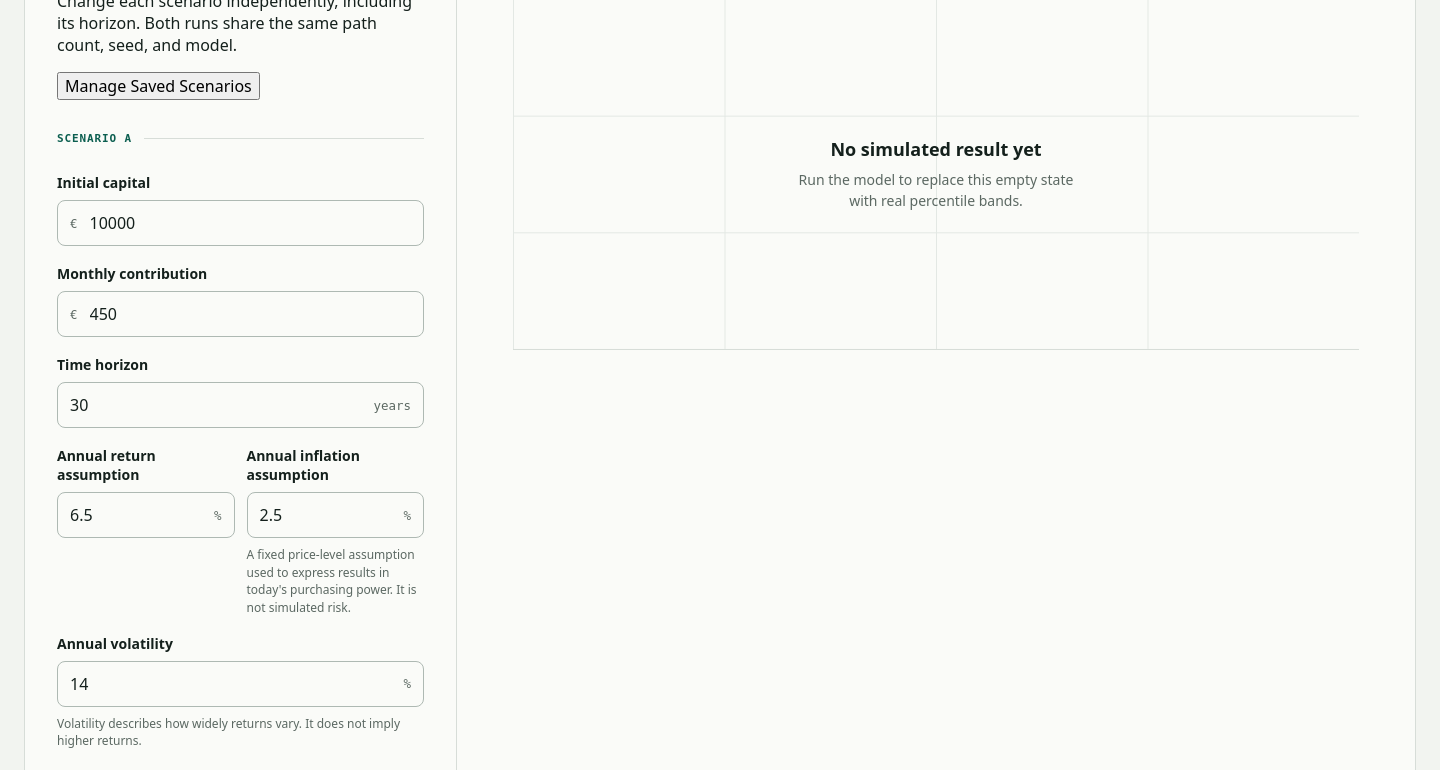
Scenario: MarketSim simulation workspace › builds independent horizons and executes A then B with shared controls
(page scrolled)
Replace the text in the number field labelled "Time horizon" with "1" at (210, 405), box x1=58 y1=383 x2=362 y2=427
(page scrolled)
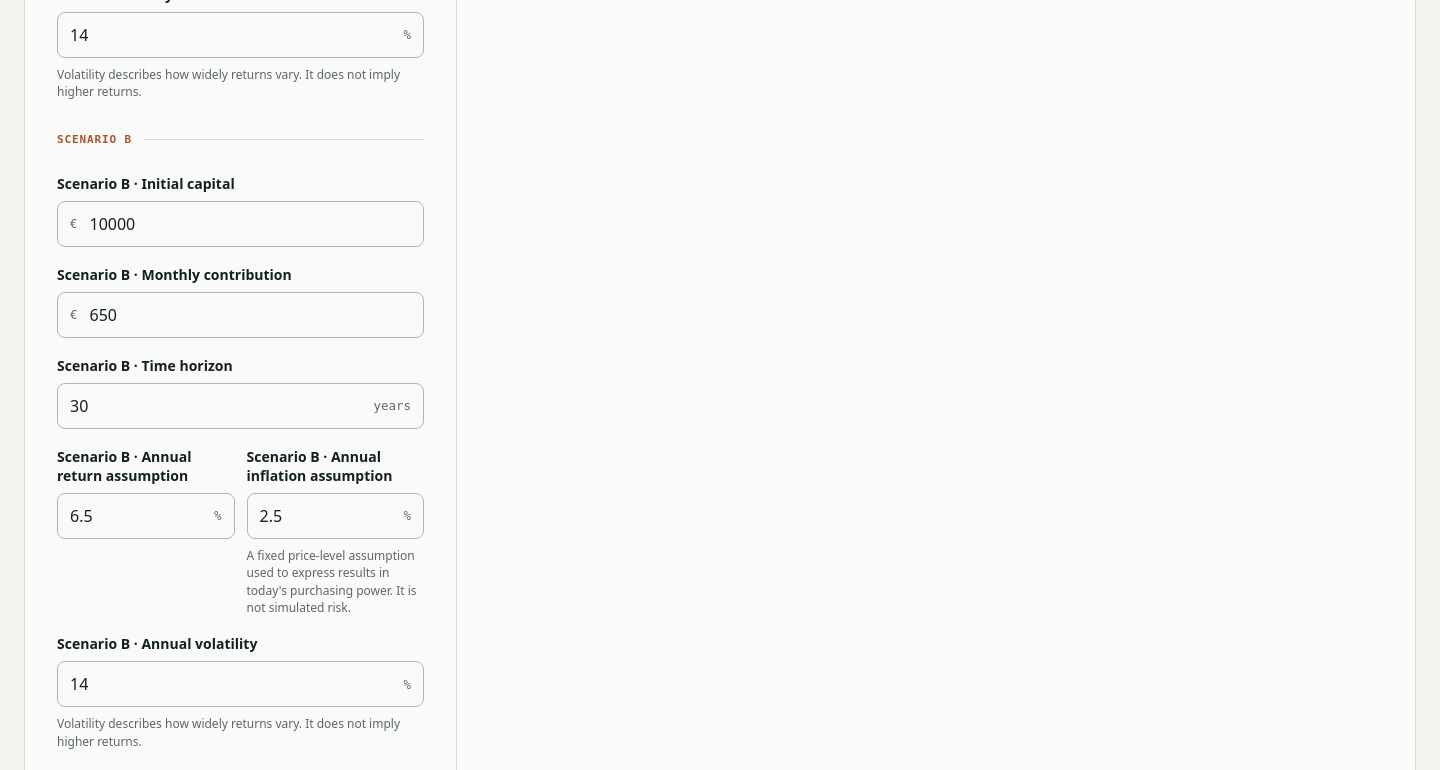
Replace the text in the number field labelled "Scenario B · Time horizon" with "2" at (210, 406), box x1=58 y1=384 x2=362 y2=428
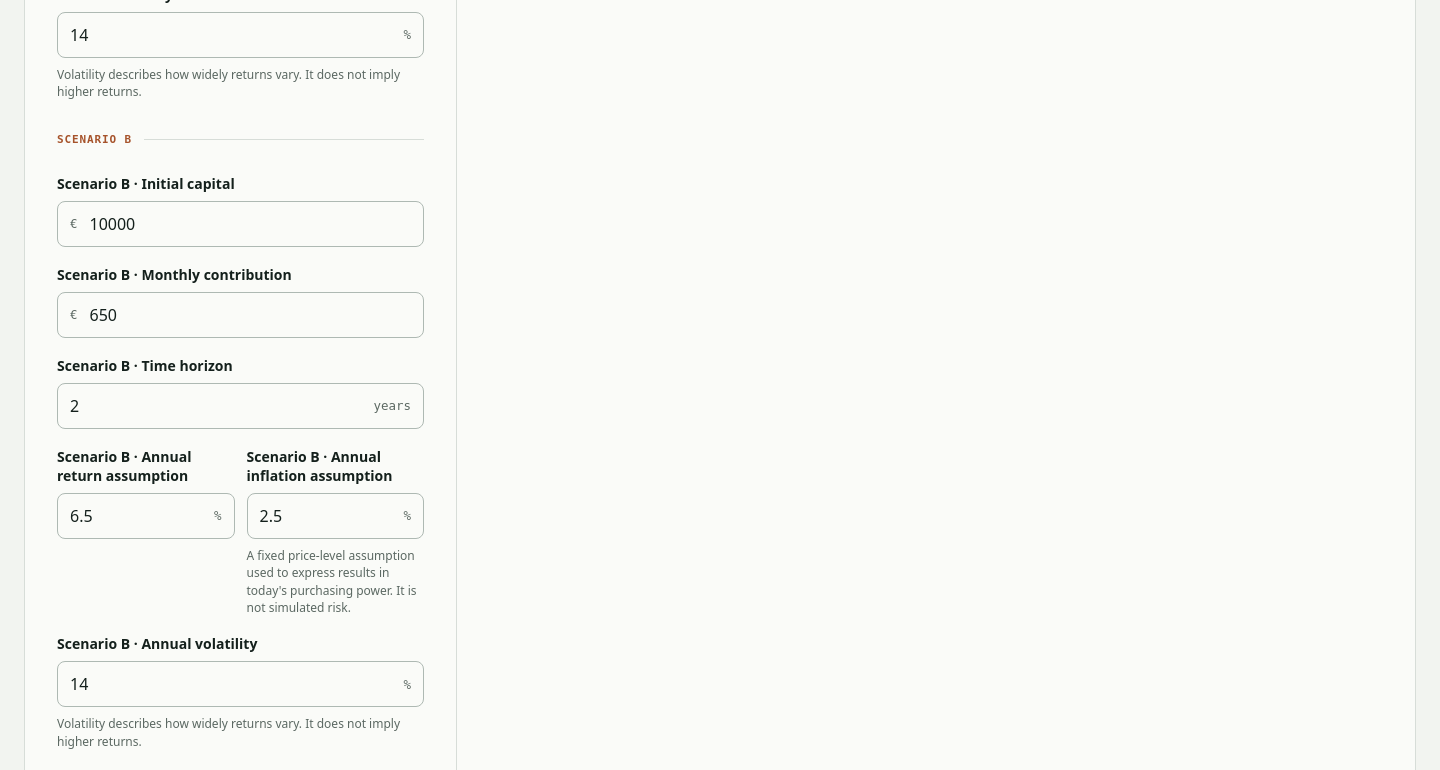
Replace the text in the number field labelled "Scenario B · Initial capital" with "22000" at (256, 224), box x1=90 y1=202 x2=423 y2=246
(page scrolled)
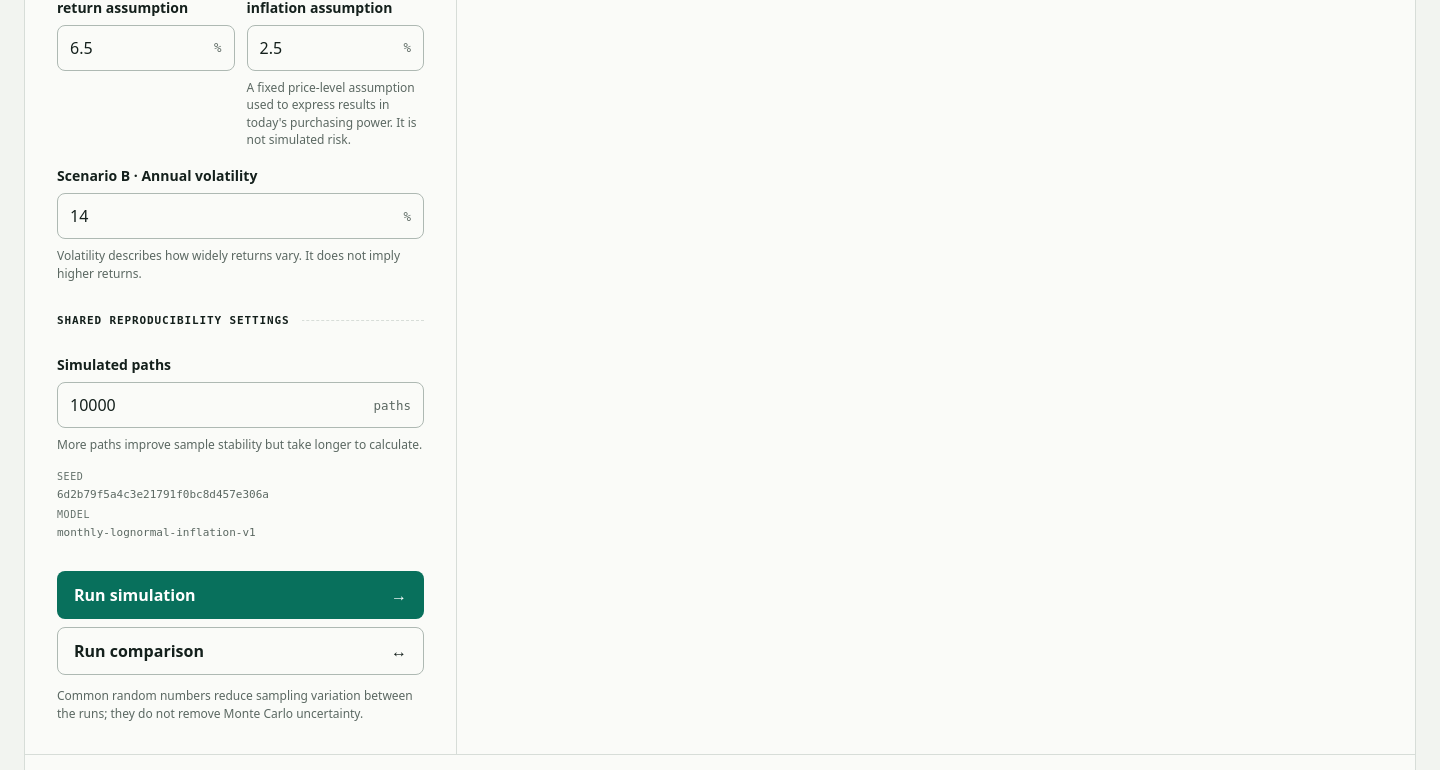
Replace the text in the number field labelled "Simulated paths" with "32" at (210, 405), box x1=58 y1=383 x2=362 y2=427
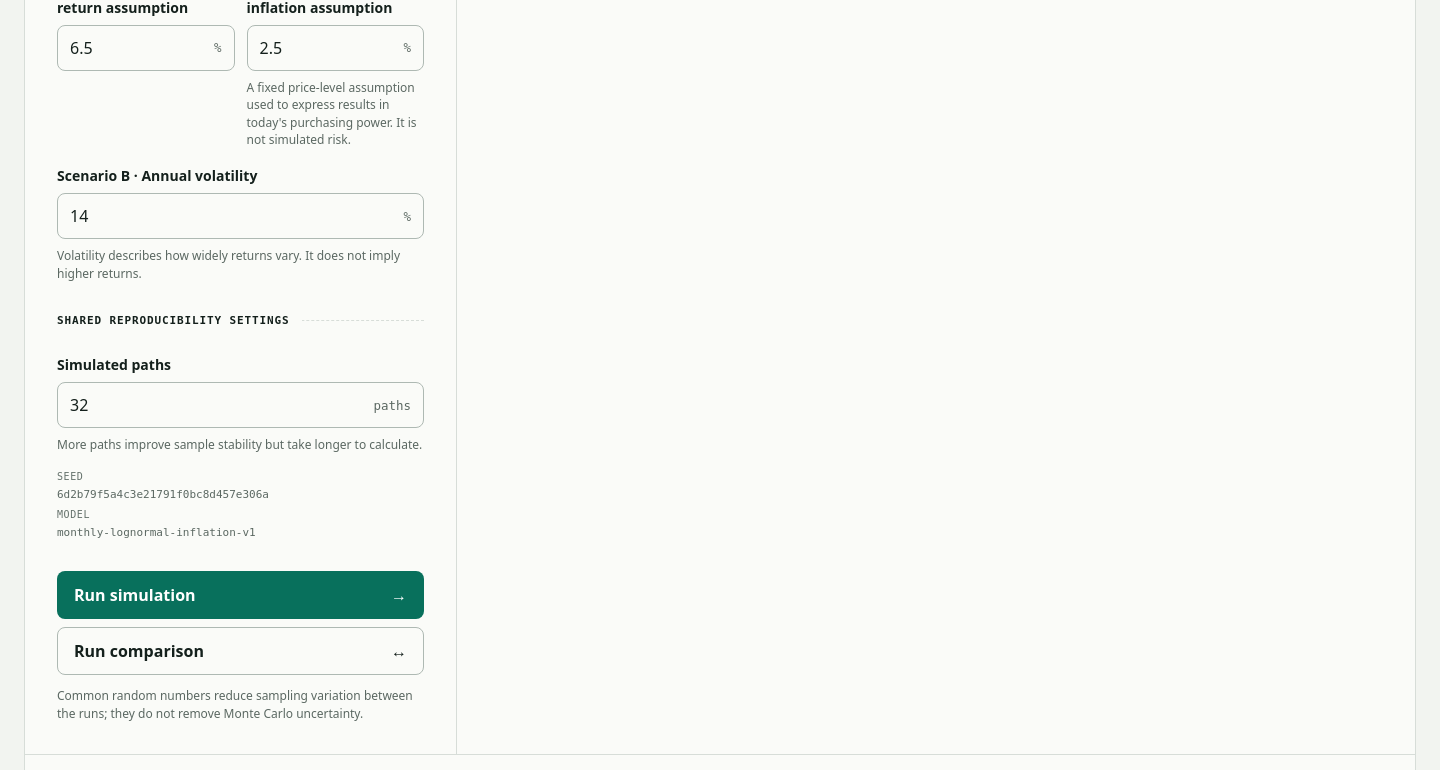
Click the button "Run comparison ↔" at (139, 651), box x1=57 y1=628 x2=424 y2=676
(page scrolled)
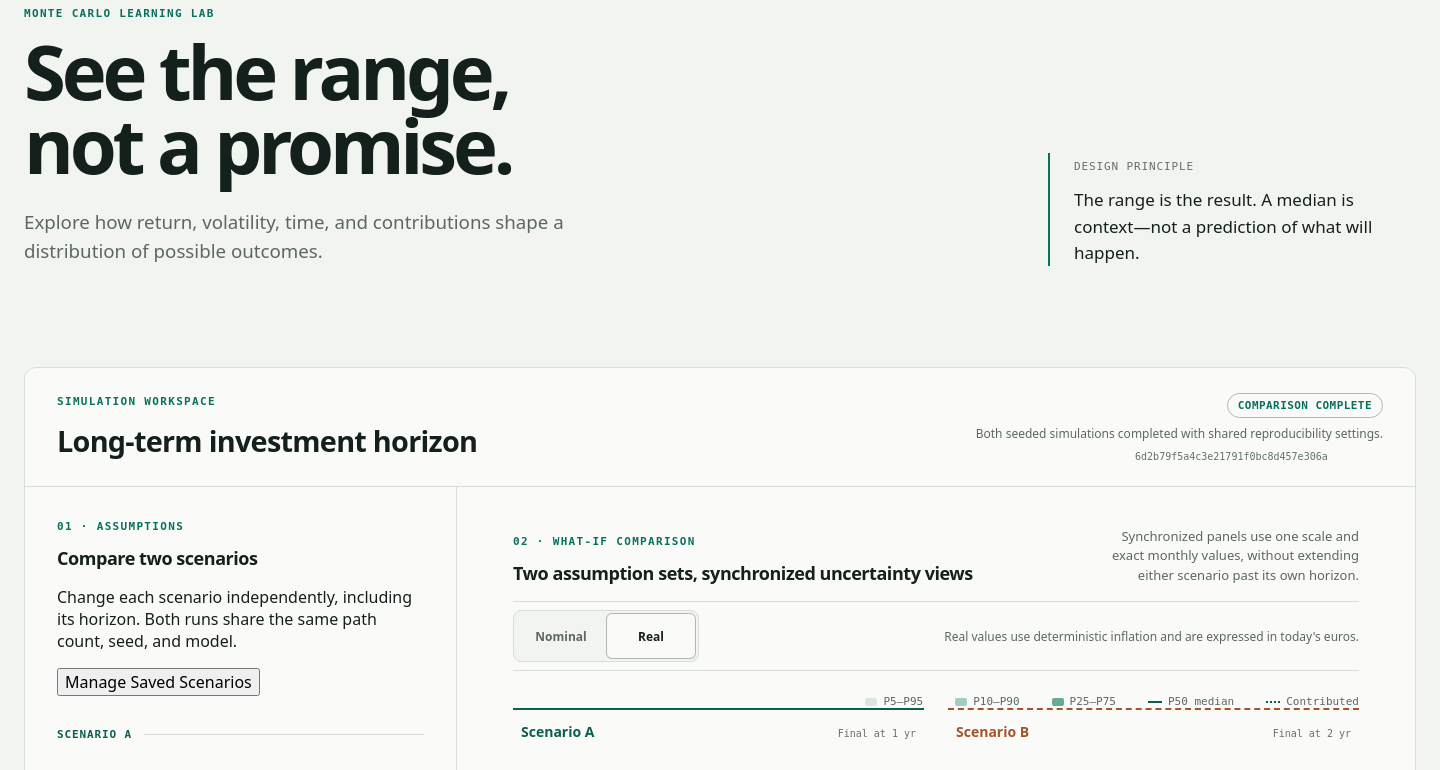
Check: the text "6d2b79f5a4c3e21791f0bc8d457e306a" is shown, box x1=1135 y1=451 x2=1328 y2=462
Check: the text "Comparison complete" is shown, box x1=1227 y1=393 x2=1383 y2=418
